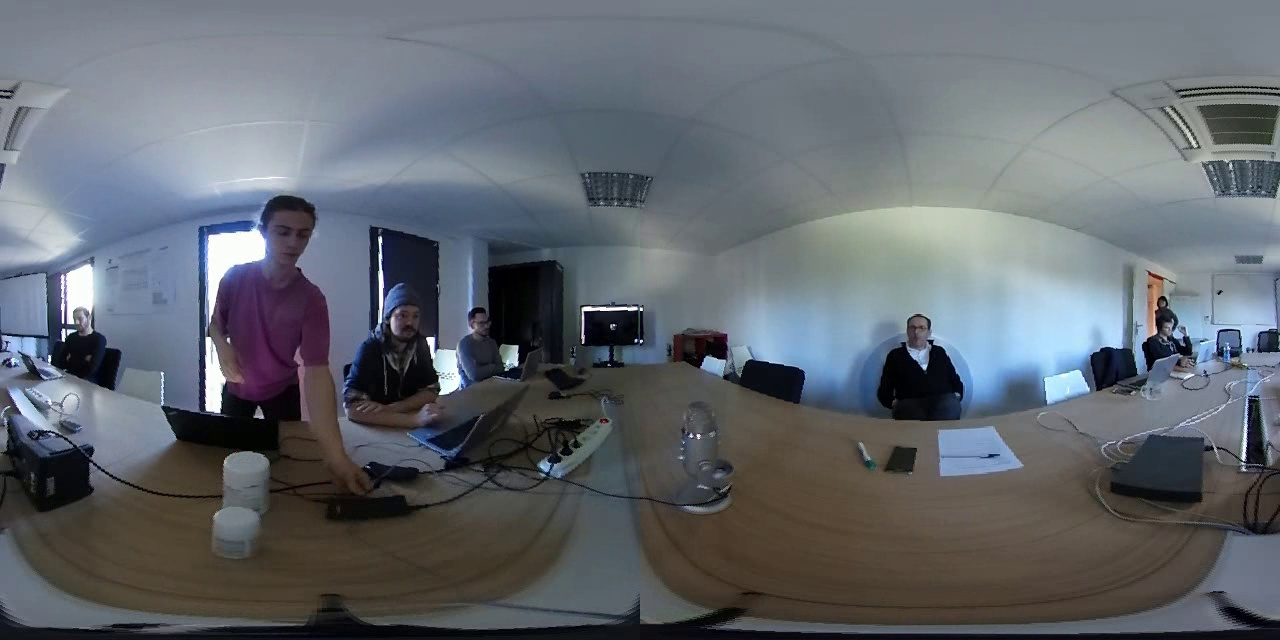person: (208, 189, 338, 435), (344, 270, 438, 404), (867, 301, 964, 422), (58, 291, 110, 388), (447, 295, 508, 376), (1131, 312, 1192, 364), (1141, 280, 1183, 324)
